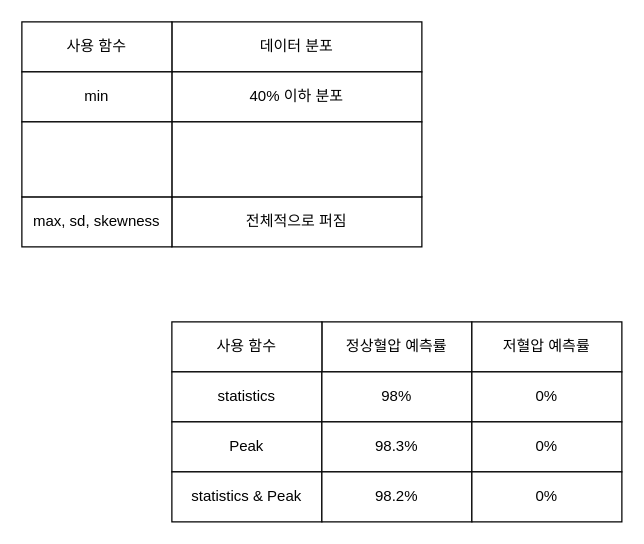
Image size: 644x544. Some labels were removed from this diagram. The box of each missing label's shape, as (x1, y1, x2, y2) in pixels:
50% 이하 분포: (171, 121, 422, 197)
sum, mean, geometric.mean, median: (21, 121, 172, 197)
